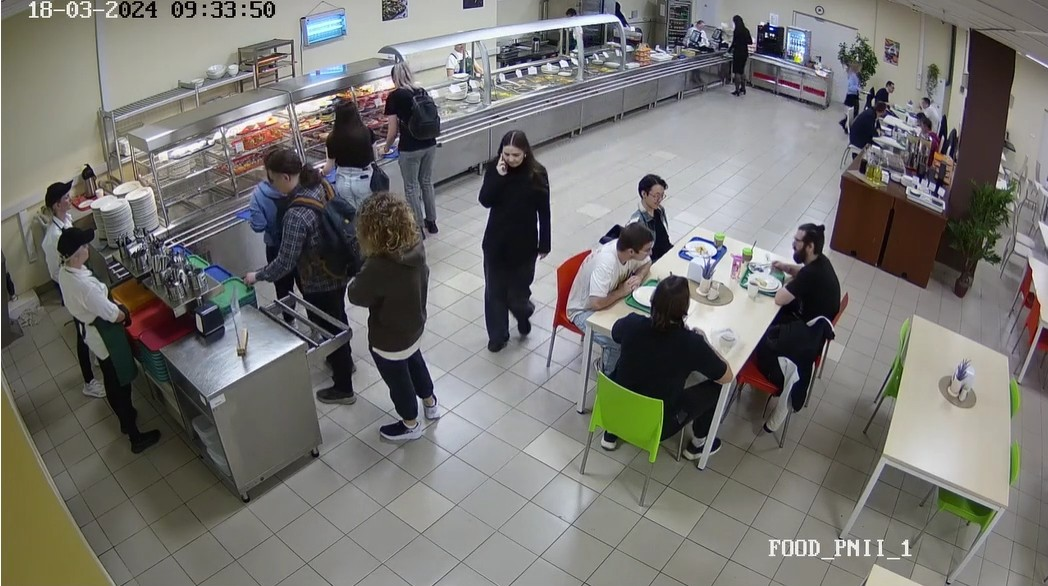Na_Kasse: (724, 13, 755, 95)
Ne_v_Ocheredi: (478, 124, 547, 346), (842, 54, 863, 128)
Personal: (40, 224, 247, 464), (37, 180, 86, 226), (446, 28, 478, 74), (559, 7, 583, 47), (689, 17, 709, 45)
Vybiraet: (346, 198, 449, 436), (240, 151, 347, 317), (376, 62, 444, 231), (314, 91, 379, 204), (246, 132, 279, 263)
Za_Stolom: (607, 269, 720, 471), (565, 211, 654, 342), (766, 216, 847, 351), (623, 167, 675, 221), (854, 96, 886, 152), (915, 117, 942, 147), (873, 74, 895, 105), (919, 92, 938, 115)
